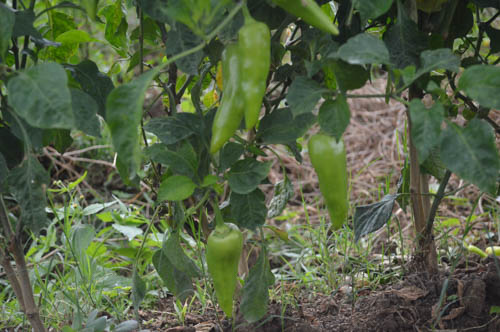ChiliPepper: (307, 135, 351, 228), (208, 48, 244, 152), (237, 24, 273, 126), (207, 224, 243, 318)
